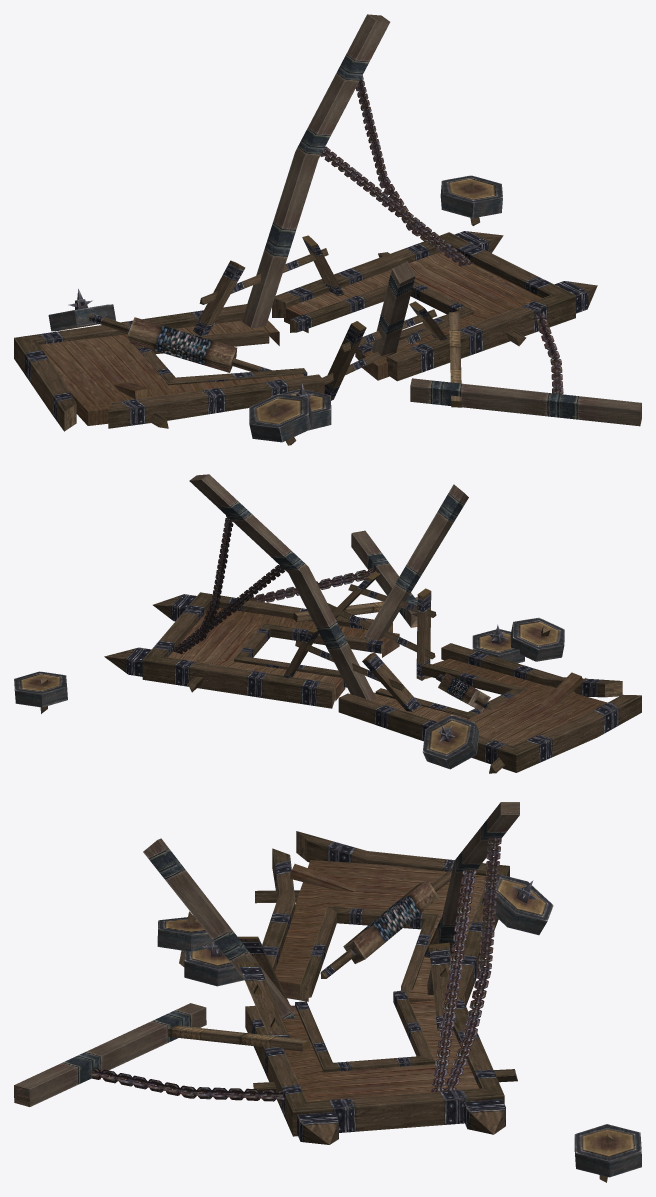
The model's file is pozhanche_yc_20.fbx.
3 views of the same model, one above another, from view 1: azimuth 30°, elevation 25°; view 2: azimuth 150°, elevation 25°; view 3: azimuth 270°, elevation 25° (orthographic). The views are drawn at different scales.
Parts seen in each view (by area): view 1: pozhanche_yc_20; view 2: pozhanche_yc_20; view 3: pozhanche_yc_20.
Part boxes in pixels (x1=…): pozhanche_yc_20: x1=14, y1=14, x2=641, y2=445; pozhanche_yc_20: x1=14, y1=474, x2=641, y2=773; pozhanche_yc_20: x1=14, y1=802, x2=641, y2=1182.
Size of what is drawn, in the model's own units: 1641 by 747 by 1402.
